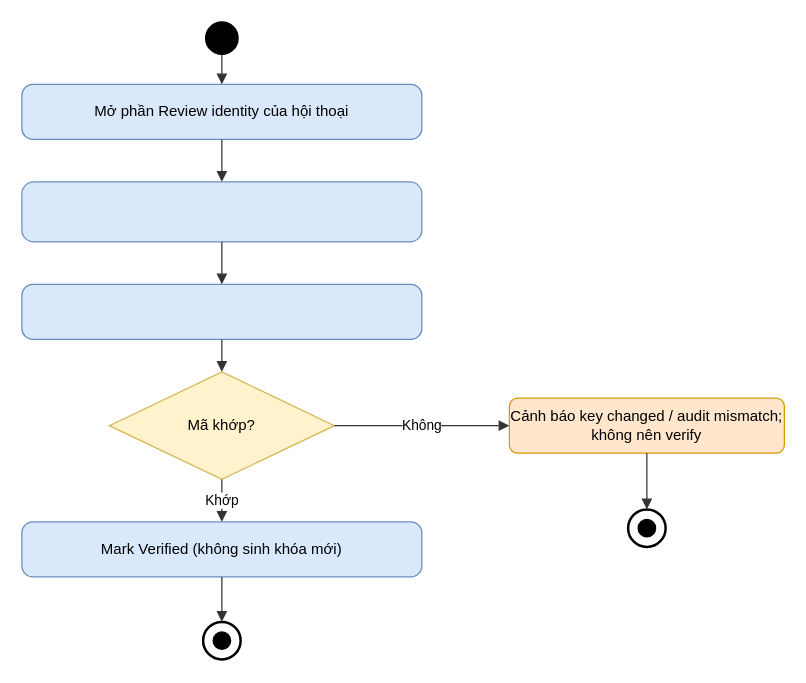
This 806x683 diagram has some shape labels left out. Each missing label, with the box of its shape:
Hiển thị safety number / short check code từ identity key hai bên: (21, 181, 422, 242)
So sánh mã qua kênh ngoài SecChat: (21, 283, 422, 339)
